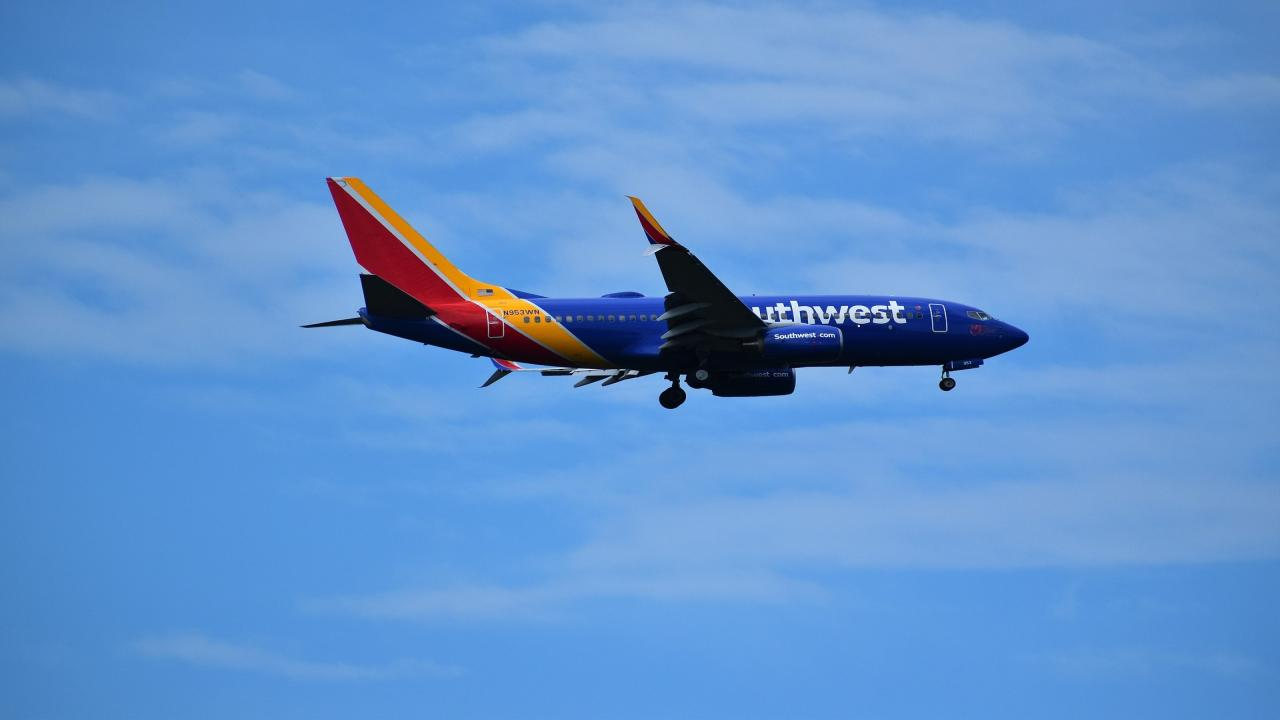Airplane: (281, 161, 1045, 432)
